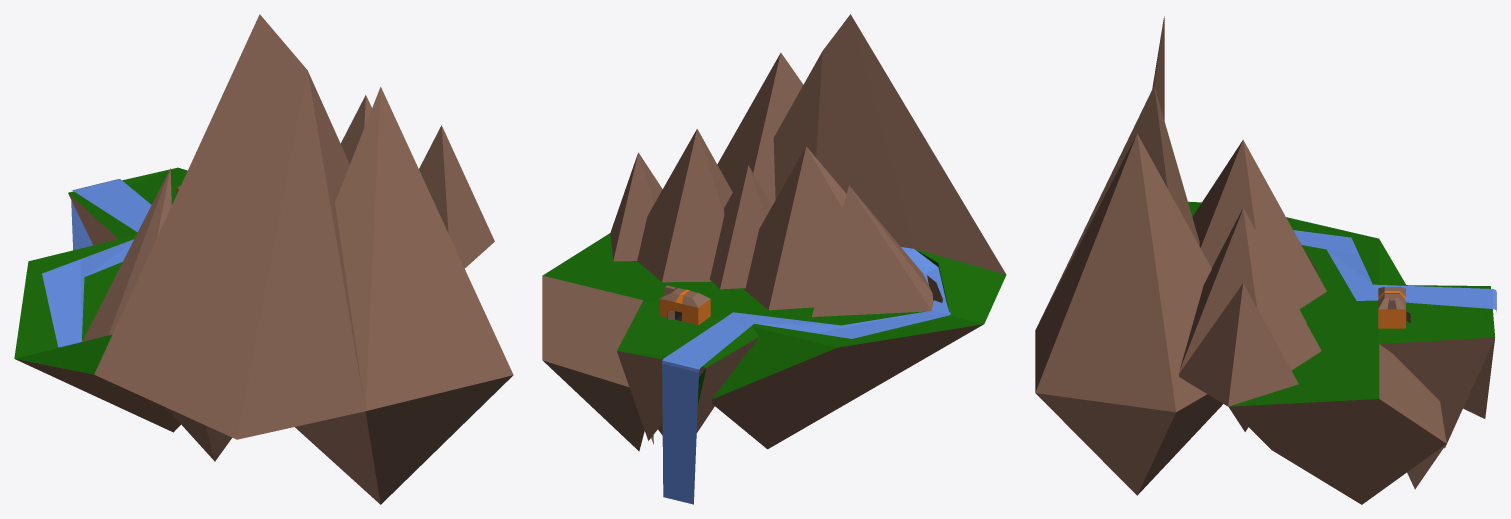
3 renders of one model, left to right at view 1: azimuth 30°, elevation 25°; view 2: azimuth 150°, elevation 25°; view 3: azimuth 270°, elevation 25°, orthographic. The views are drawn at different scales.
Visible parts, largest first — view 1: Home; view 2: Home; view 3: Home.
Part boxes in pixels (x1,y1,x2,y2): Home: [14, 14, 513, 504]; Home: [542, 14, 1006, 504]; Home: [1035, 16, 1496, 504].
Bounding box in the file's own units: 18.86 × 18.94 × 18.11.
